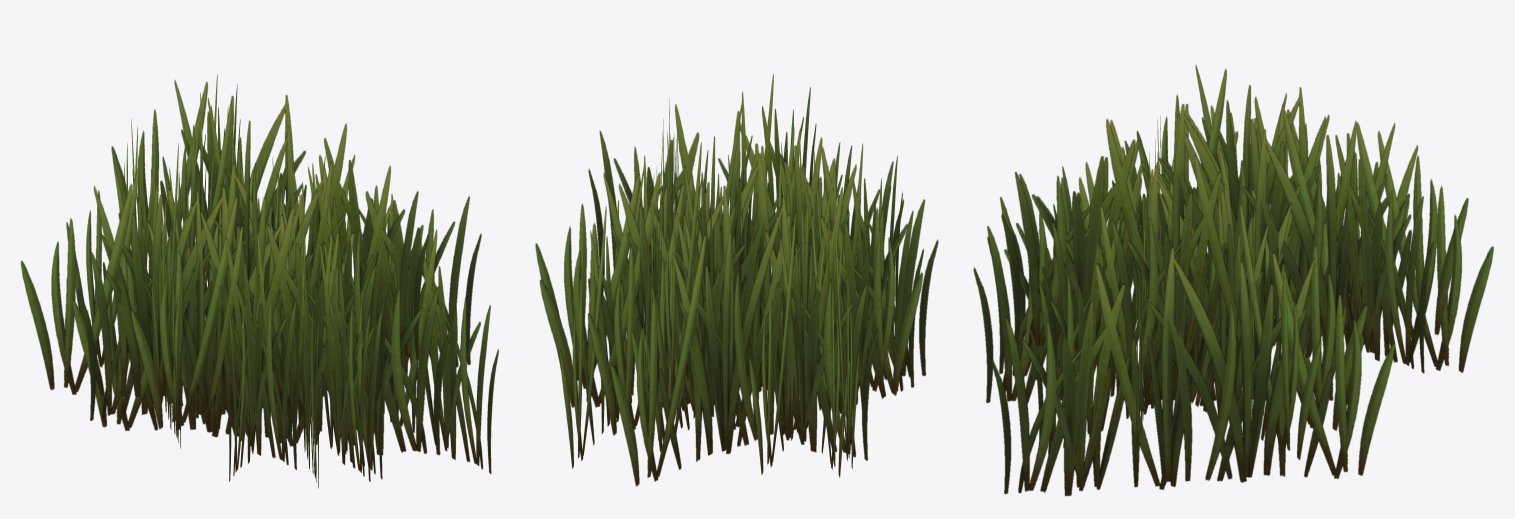
File: grassv4.glb
3 renders of one model, left to right at view 1: azimuth 30°, elevation 25°; view 2: azimuth 150°, elevation 25°; view 3: azimuth 270°, elevation 25°, orthographic. The views are drawn at different scales.
Visible parts, largest first — view 1: Grass_green.013; view 2: Grass_green.013; view 3: Grass_green.013.
Part boxes in pixels (x1,y1,x2,y2): Grass_green.013: (20,74,498,488); Grass_green.013: (535,74,938,486); Grass_green.013: (973,65,1493,496).
Size of the model in its own units: 1.34 by 1.15 by 1.6.
Materials: 1 (1 with a texture image).
